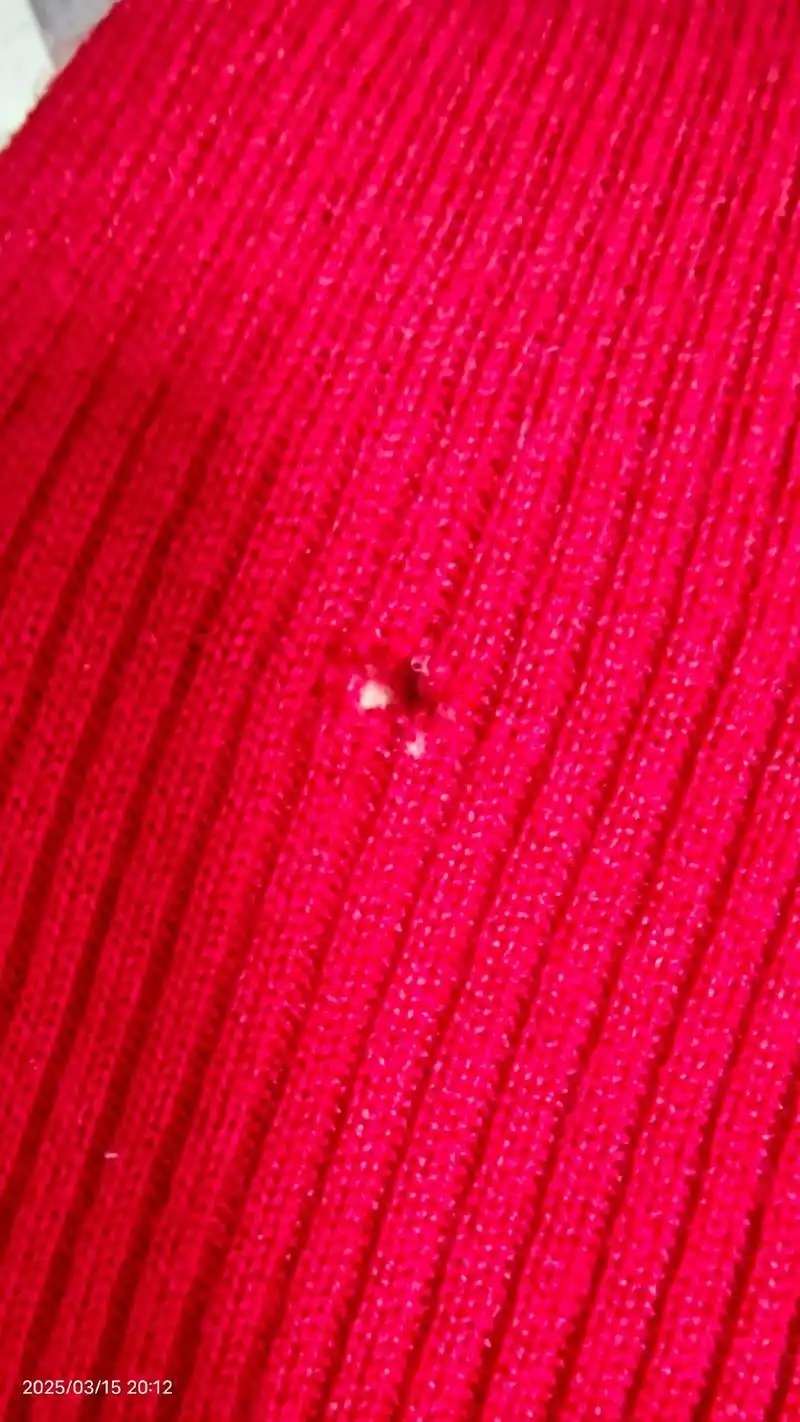hole_2: (348, 654, 442, 768)
